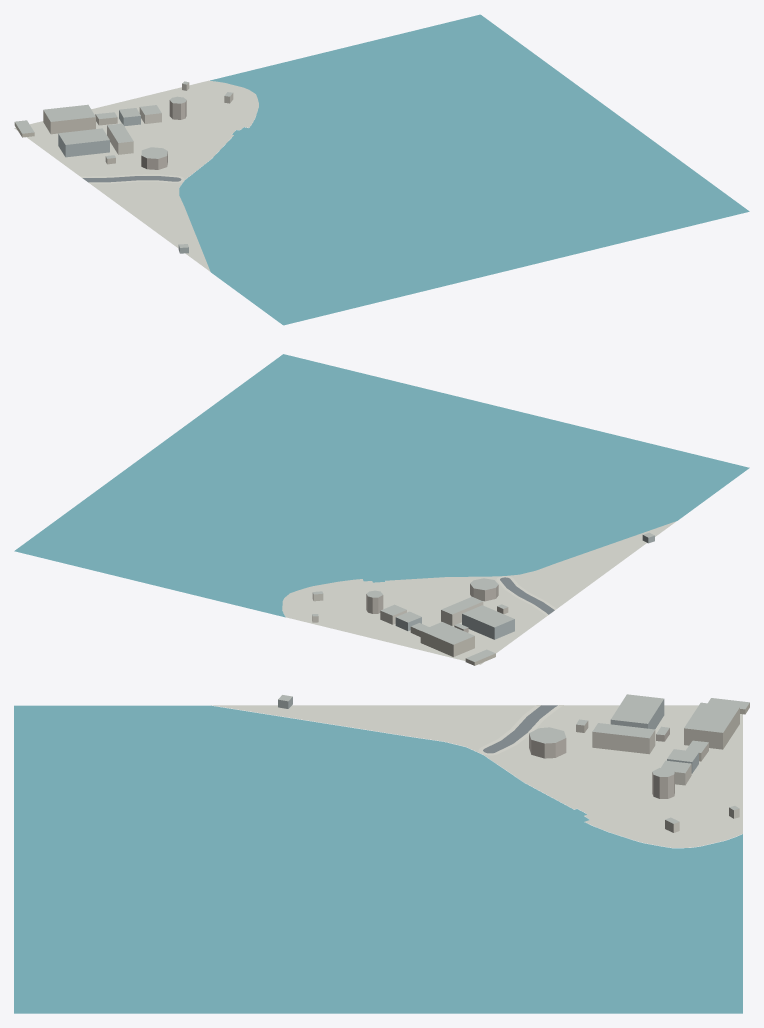
3 views of the same model, one above another, from view 1: azimuth 30°, elevation 25°; view 2: azimuth 150°, elevation 25°; view 3: azimuth 270°, elevation 25° (orthographic). The views are drawn at different scales.
Parts seen in each view (by area): view 1: city; view 2: city; view 3: city.
Boxes of the visible parts, x1=… form: city: x1=14, y1=14, x2=749, y2=325; city: x1=14, y1=354, x2=749, y2=665; city: x1=14, y1=694, x2=749, y2=1013.
Size of the model in its own units: 505 by 16.88 by 505.
